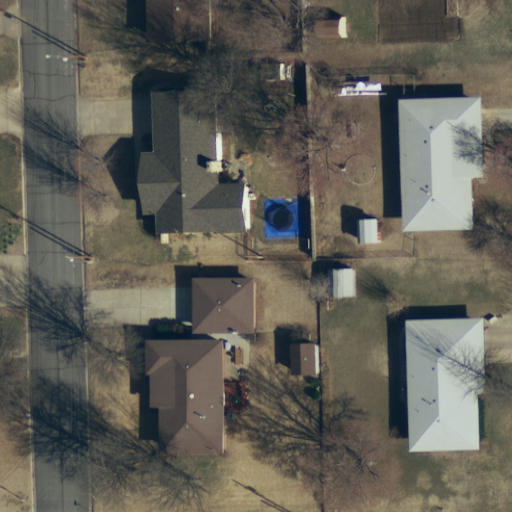DT: (49, 47, 91, 71), (58, 248, 100, 270)
